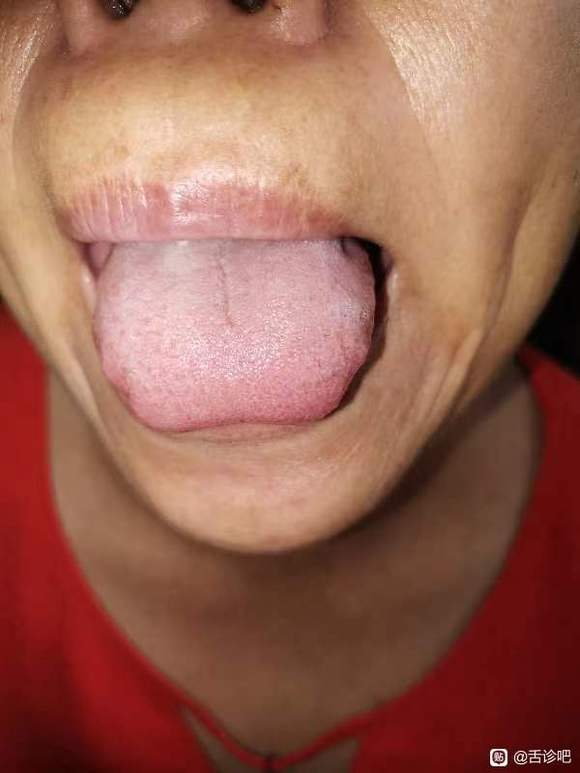baitaishe: (93, 242, 375, 433)
chihenshe: (94, 315, 135, 417)
liewenshe: (215, 259, 231, 330)
